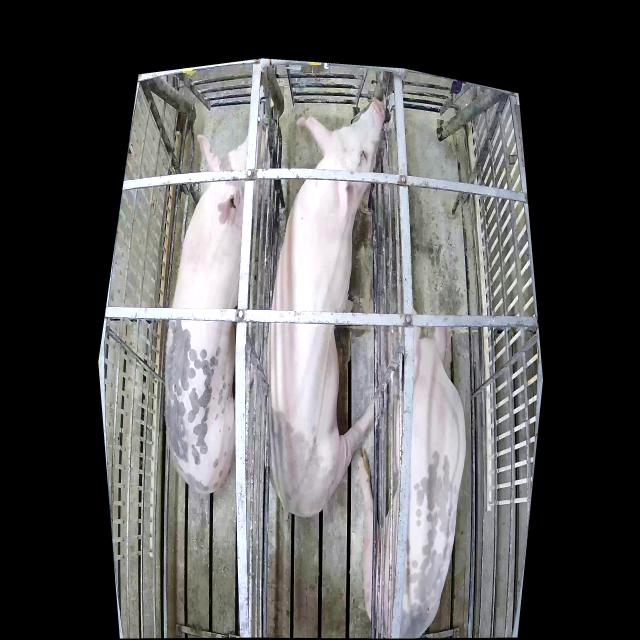pig: (267, 97, 385, 519), (164, 126, 270, 494), (357, 324, 466, 637)
